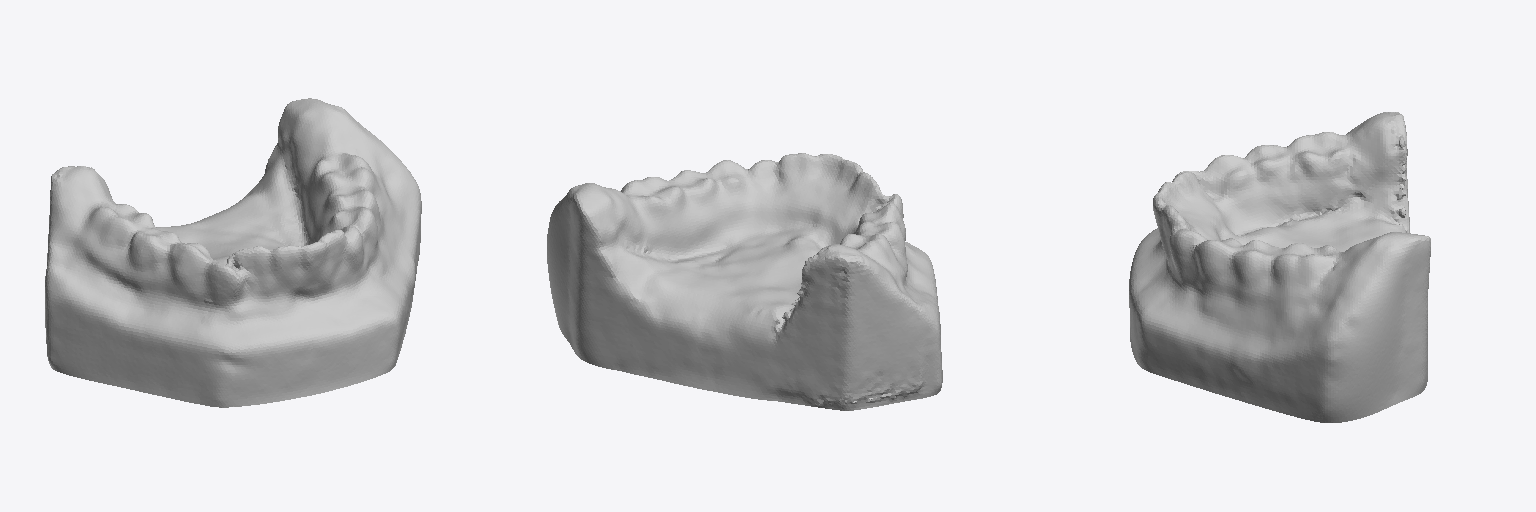
The model's file is polhemus_dentalcast.obj.
3 views of the same model, side by side, from view 1: azimuth 30°, elevation 25°; view 2: azimuth 150°, elevation 25°; view 3: azimuth 270°, elevation 25° (orthographic).
Bounding box in the file's own units: 79.88 × 32.1 × 55.08.